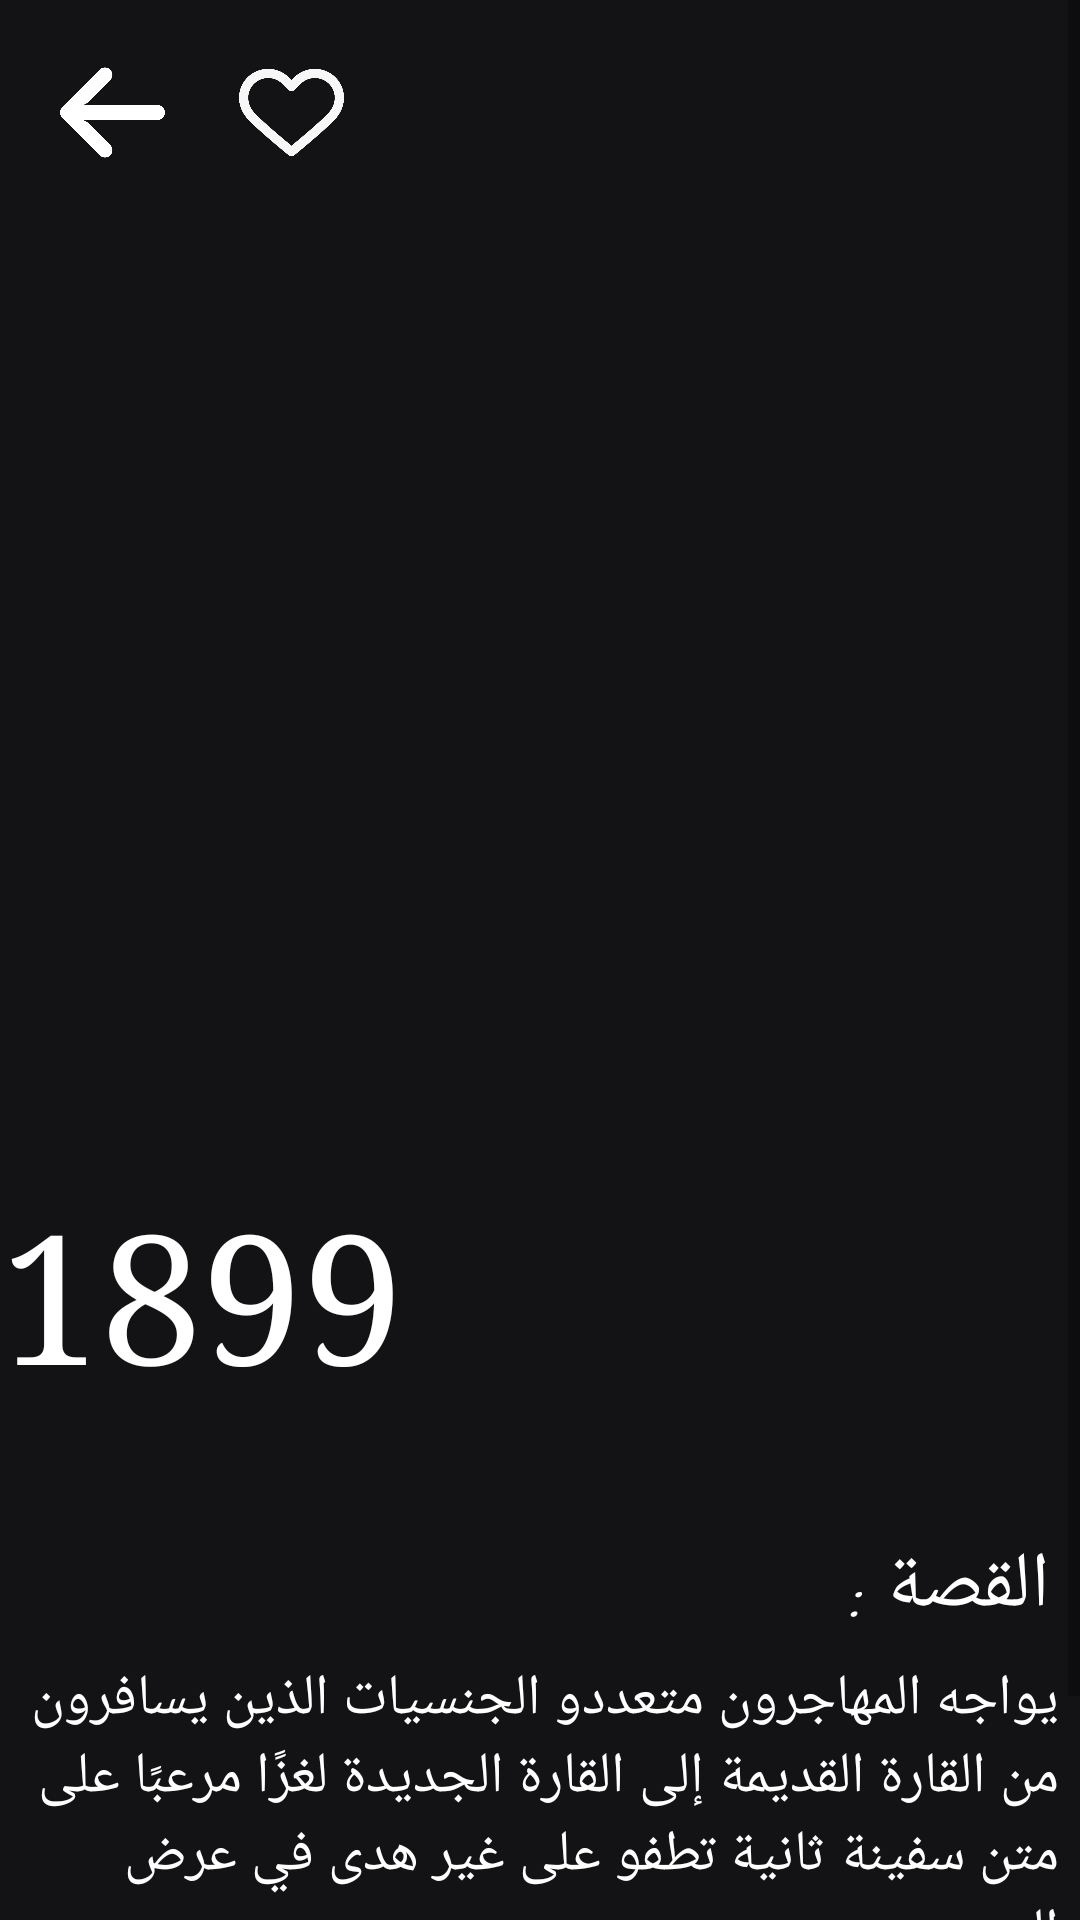

Screen size 1080px x 1920px. Icon name, then its box in pixels as (x1, y1, x2, y2):
arrow: (60, 67, 165, 158)
heart: (239, 69, 344, 156)
